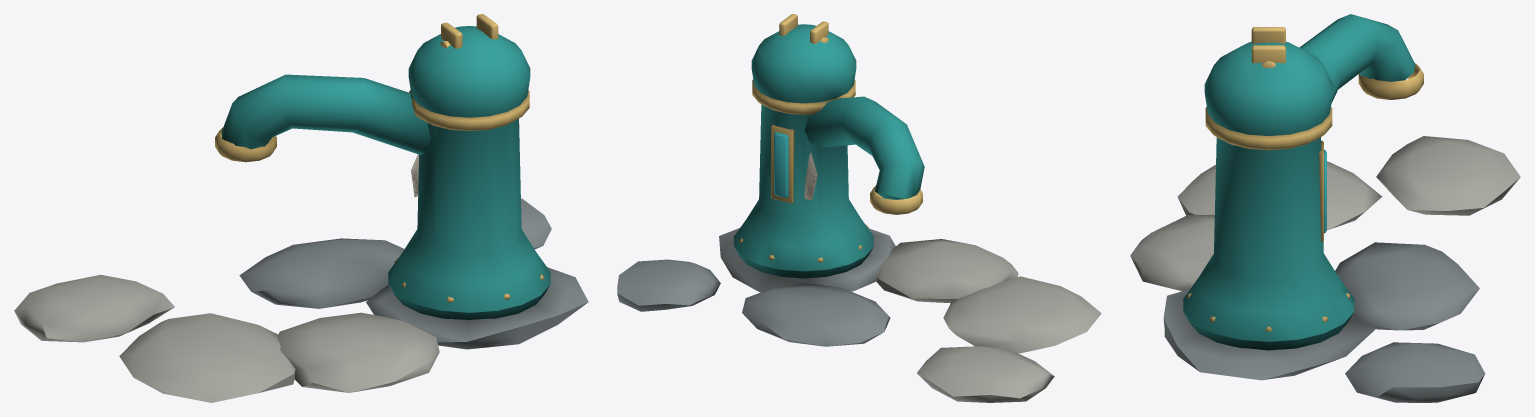
The model's file is EDV2_WellPump.fbx.
3 renders of one model, left to right at view 1: azimuth 30°, elevation 25°; view 2: azimuth 150°, elevation 25°; view 3: azimuth 270°, elevation 25°, orthographic. The views are drawn at different scales.
Parts seen in each view (by area): view 1: Base, Body, Spout, Hardware; view 2: Base, Body, Spout, Hardware, Gauge; view 3: Base, Body, Spout, Hardware.
Boxes of the visible parts, x1,y1,x2,y2 form: Base: [14, 198, 588, 402]; Body: [388, 26, 550, 319]; Spout: [221, 74, 430, 154]; Hardware: [215, 14, 544, 302]; Base: [617, 228, 1101, 402]; Body: [734, 24, 873, 278]; Spout: [804, 96, 924, 199]; Hardware: [739, 14, 922, 262]; Gauge: [774, 132, 788, 197]; Base: [1130, 136, 1520, 402]; Body: [1183, 41, 1354, 350]; Spout: [1299, 14, 1415, 103]; Hardware: [1187, 27, 1423, 331].
Size of the model in its own units: 0.3894 by 0.2198 by 0.252.
